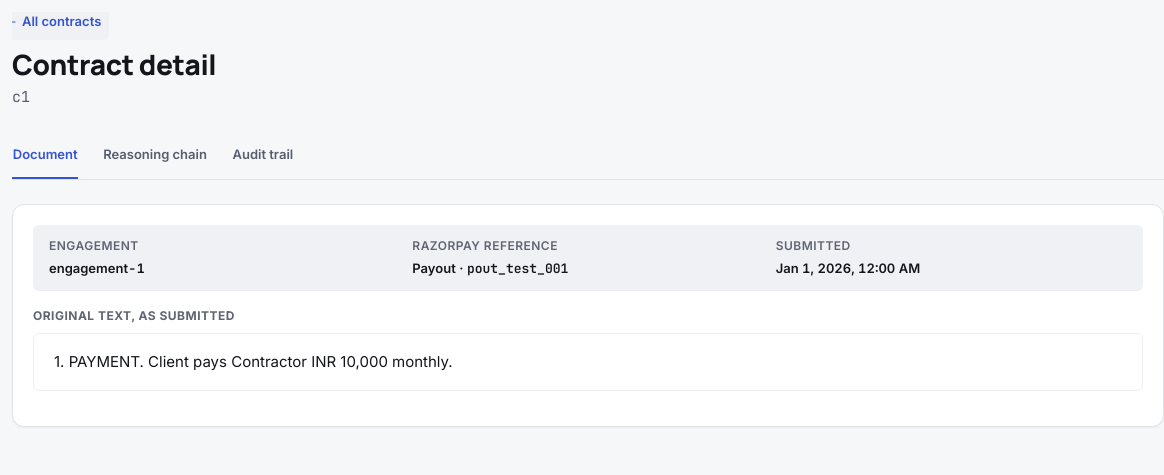
it: ContractDetailPage › retries only the failed section, without disturbing an already-loaded tab
Expected: the text "1. PAYMENT. Client pays Contractor INR 10,000 monthly." is shown, x1=33 y1=333 x2=1143 y2=391
Click the tab "Reasoning chain": click(155, 156) x1=102 y1=133 x2=208 y2=179
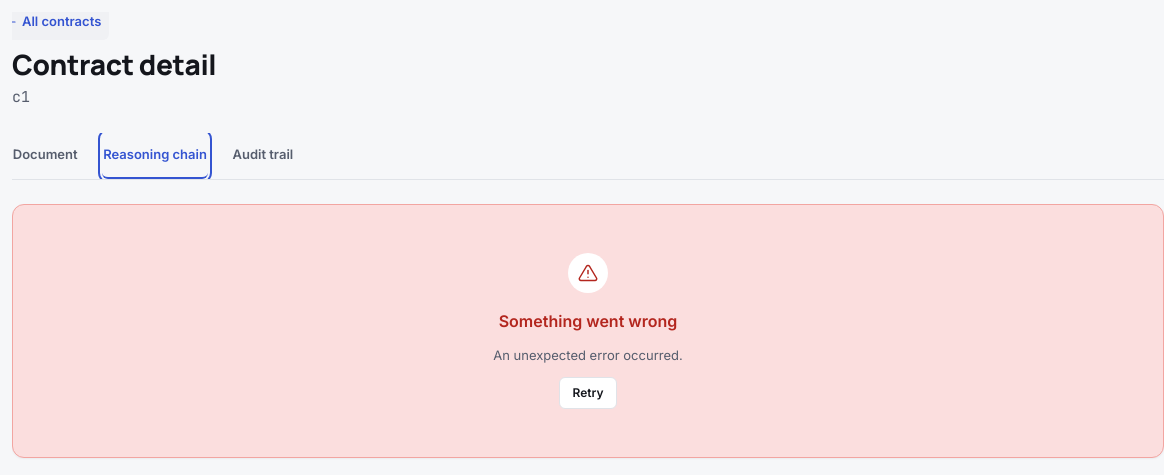
Expected: the message "Something went wrong An unexpected error occurred. Retry" is shown, x1=12 y1=204 x2=1163 y2=458
Click the button "Retry": click(588, 393) x1=560 y1=377 x2=616 y2=409
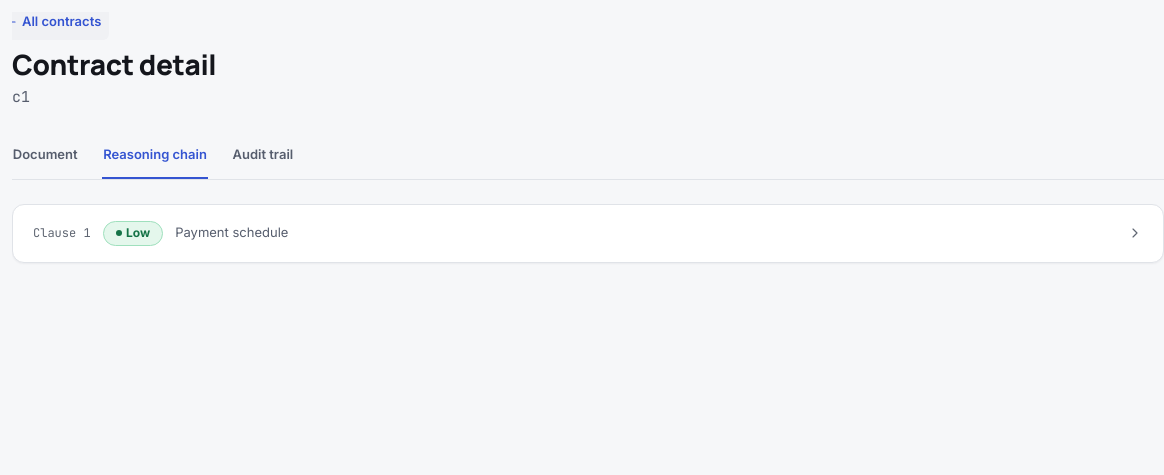
Expected: the list with test id "clause-chain" is shown, x1=12 y1=204 x2=1163 y2=263
The Document tab's already-fetched data was never touched by the retry.
Click the tab "Document": click(45, 156) x1=12 y1=133 x2=78 y2=179
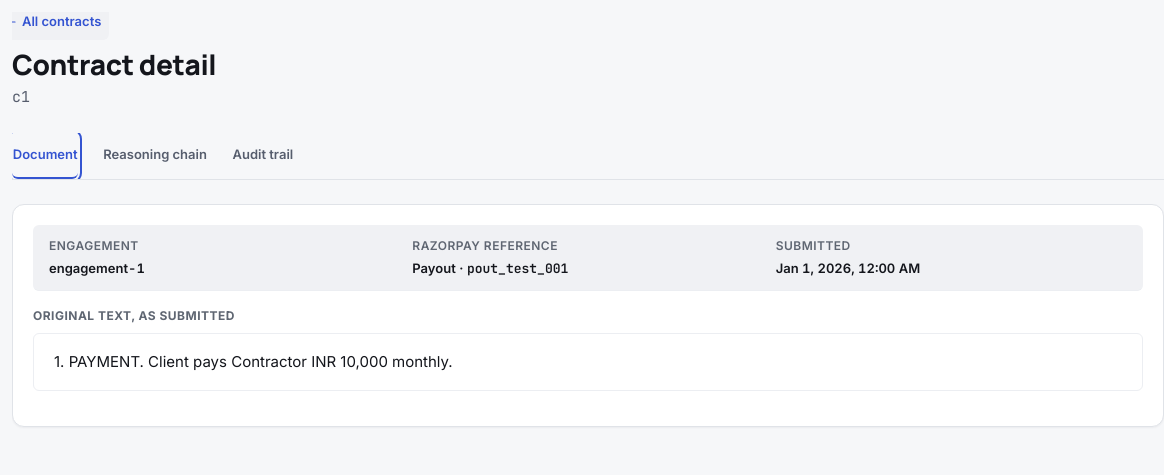
Expected: the text "1. PAYMENT. Client pays Contractor INR 10,000 monthly." is shown, x1=33 y1=333 x2=1143 y2=391
